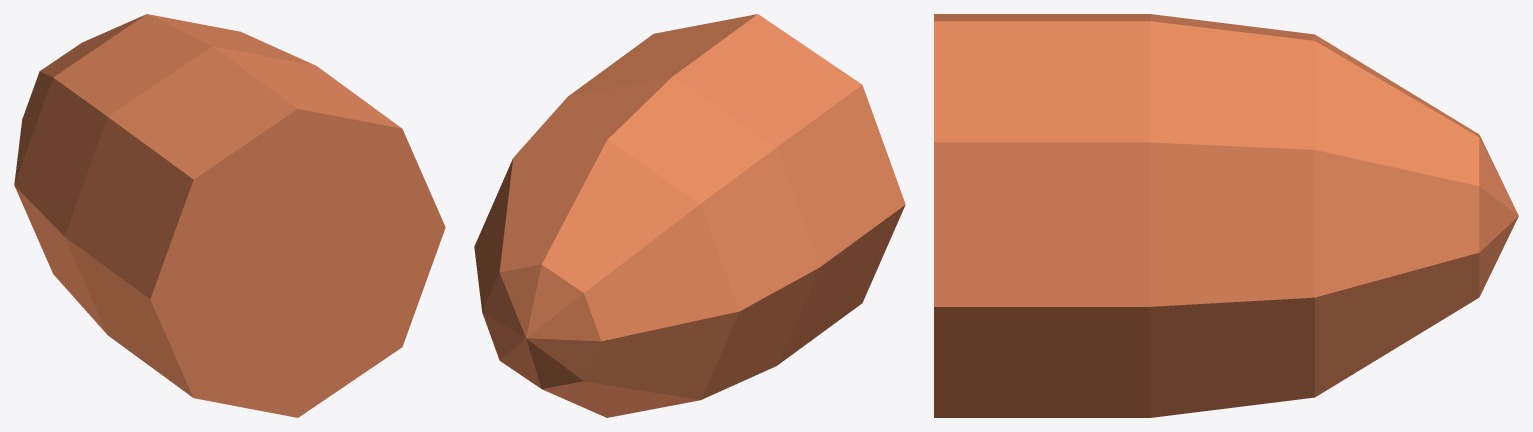
The model's file is bullet.glb.
3 views of the same model, side by side, from view 1: azimuth 30°, elevation 25°; view 2: azimuth 150°, elevation 25°; view 3: azimuth 270°, elevation 25° (orthographic). The views are drawn at different scales.
Visible parts, largest first — view 1: 762x25-tokarev-bullet; view 2: 762x25-tokarev-bullet; view 3: 762x25-tokarev-bullet.
Part boxes in pixels (left/top/right/bottom): 762x25-tokarev-bullet: left=14, top=14, right=445, bottom=417; 762x25-tokarev-bullet: left=474, top=14, right=905, bottom=417; 762x25-tokarev-bullet: left=934, top=14, right=1518, bottom=417.
Size of the model in its own units: 0.00882 by 0.00882 by 0.012.
